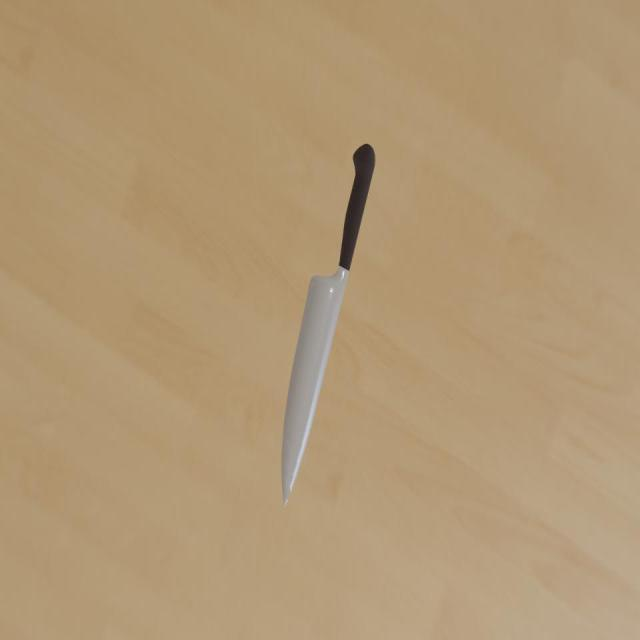knife: (338, 144, 375, 271)
